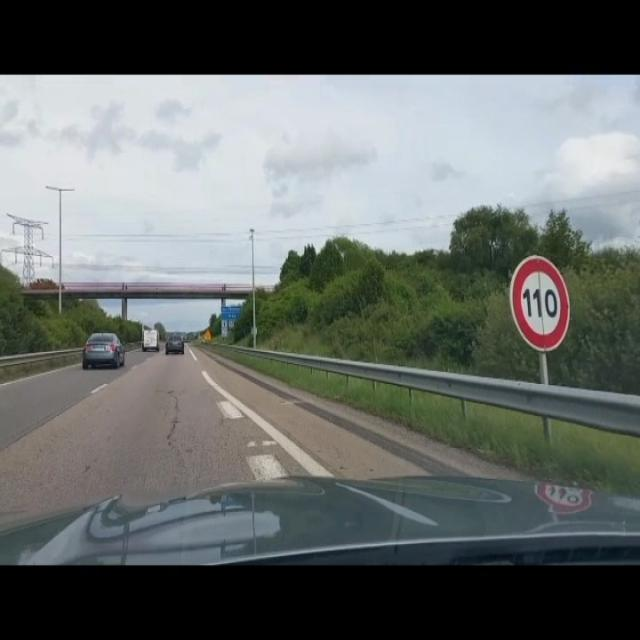indication: (221, 306, 242, 320)
speed_110: (508, 254, 571, 352)
